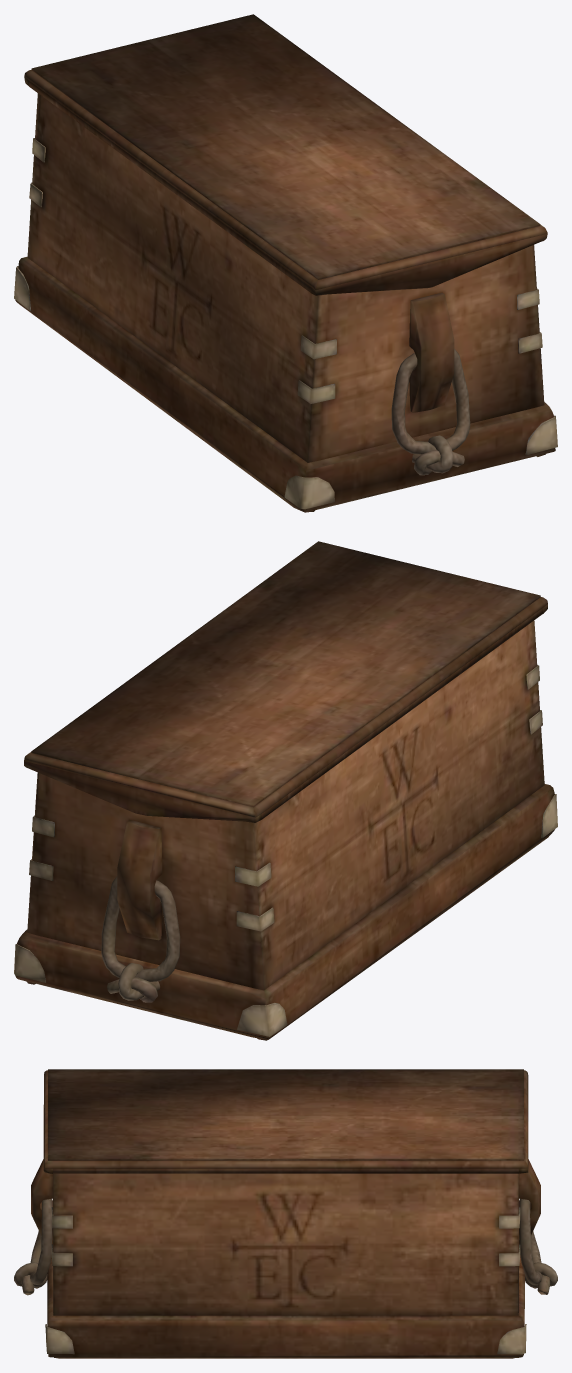
The model's file is crateSmall.glb.
The picture shows the model from 3 angles, top to bottom: view 1: azimuth 30°, elevation 25°; view 2: azimuth 150°, elevation 25°; view 3: azimuth 270°, elevation 25°; orthographic projection. The views are drawn at different scales.
Visible parts, largest first — view 1: wooden_crate_02_crate; view 2: wooden_crate_02_crate; view 3: wooden_crate_02_crate.
Boxes of the visible parts, box(x1,y1,x2,y2) form: wooden_crate_02_crate: box(14, 14, 557, 512); wooden_crate_02_crate: box(14, 541, 557, 1040); wooden_crate_02_crate: box(14, 1069, 557, 1358).
Bounding box in the file's own units: 0.5291 × 0.4639 × 1.17.
1 material, 1 textured.
